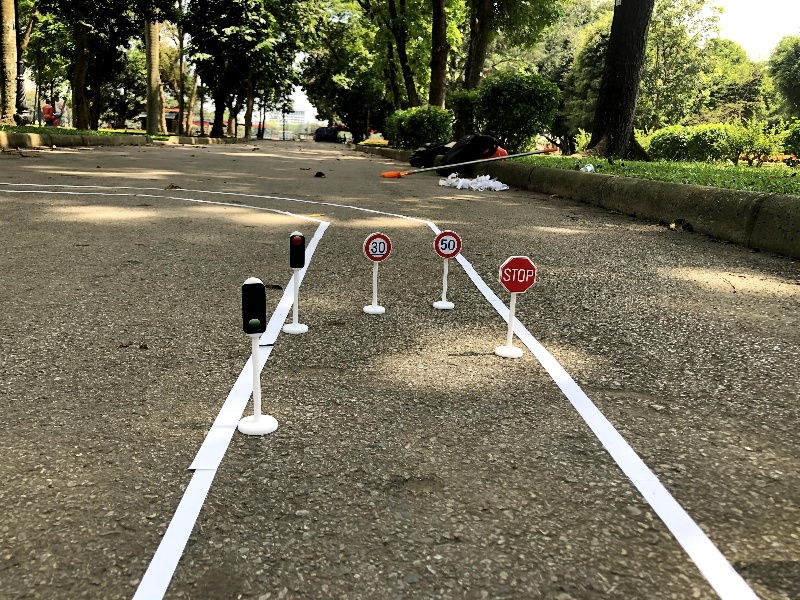Bien_bao_30: (355, 232, 393, 318)
Bien_bao_50: (427, 228, 468, 313)
Den_Do: (285, 230, 316, 339)
Den_Xanh: (228, 274, 283, 439)
Stop: (491, 252, 541, 365)
